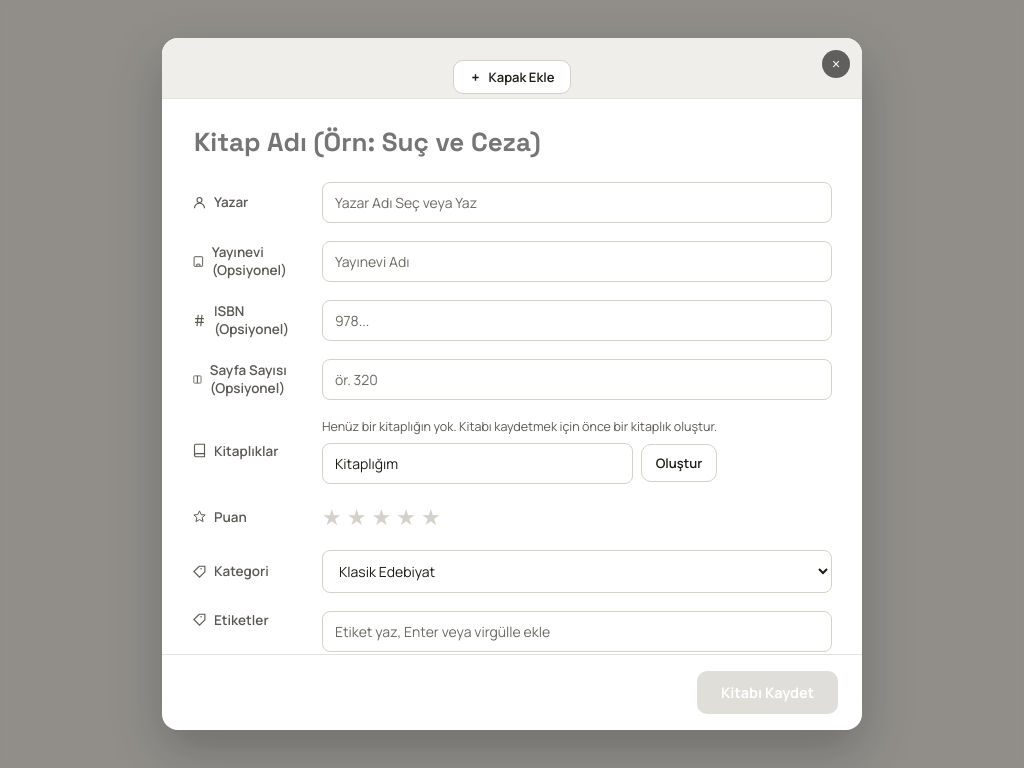
Scenario: BookModal without any library › shows a failed creation inside the dialog, not in a browser alert, keeping the input
The width and height of the screenshot is (1024, 768).
Type "Dune" into the field labelled "Kitap Adı (Örn: Suç ve Ceza)".
click(512, 142); type("Dune")  # box [192,124,832,160]
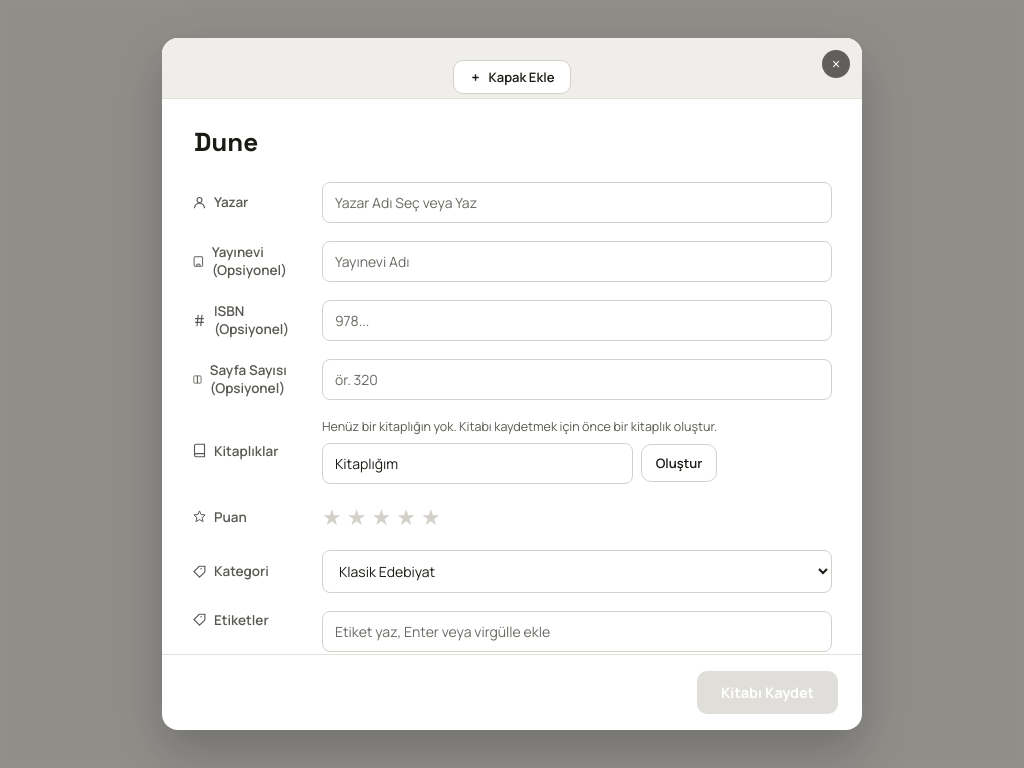
Type "Herbert" into the field with placeholder "Yazar Adı Seç veya Yaz".
click(577, 202); type("Herbert")  # box [322,182,832,223]
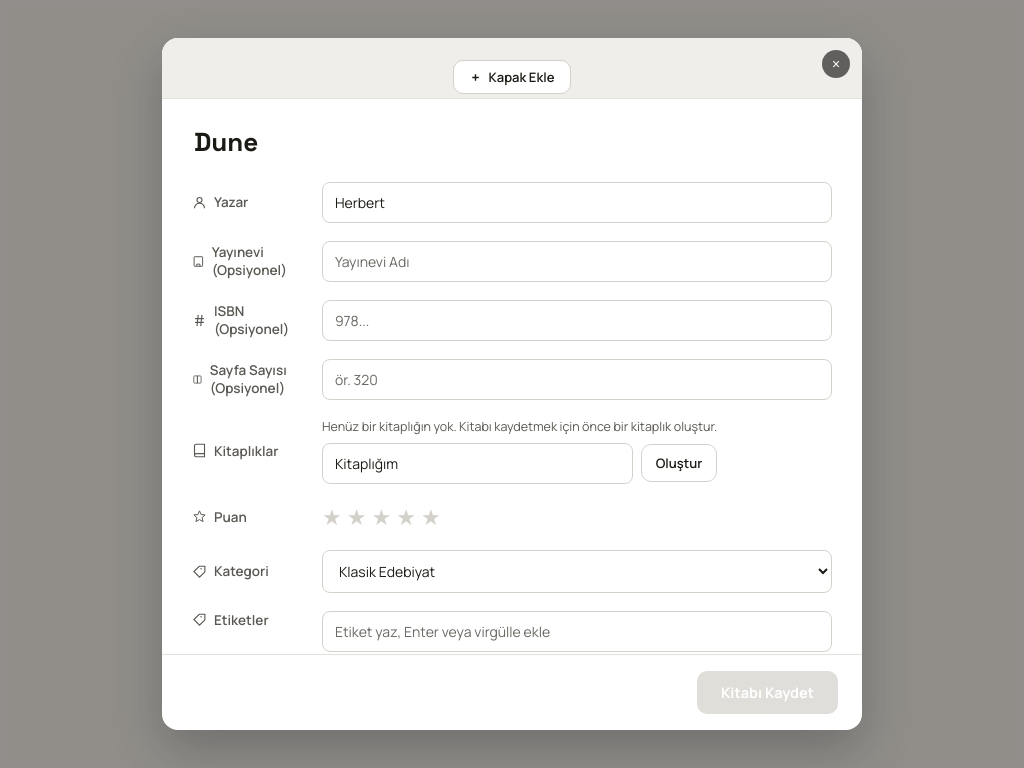
Click the button "Oluştur".
click(679, 463)  # box [641,444,717,482]
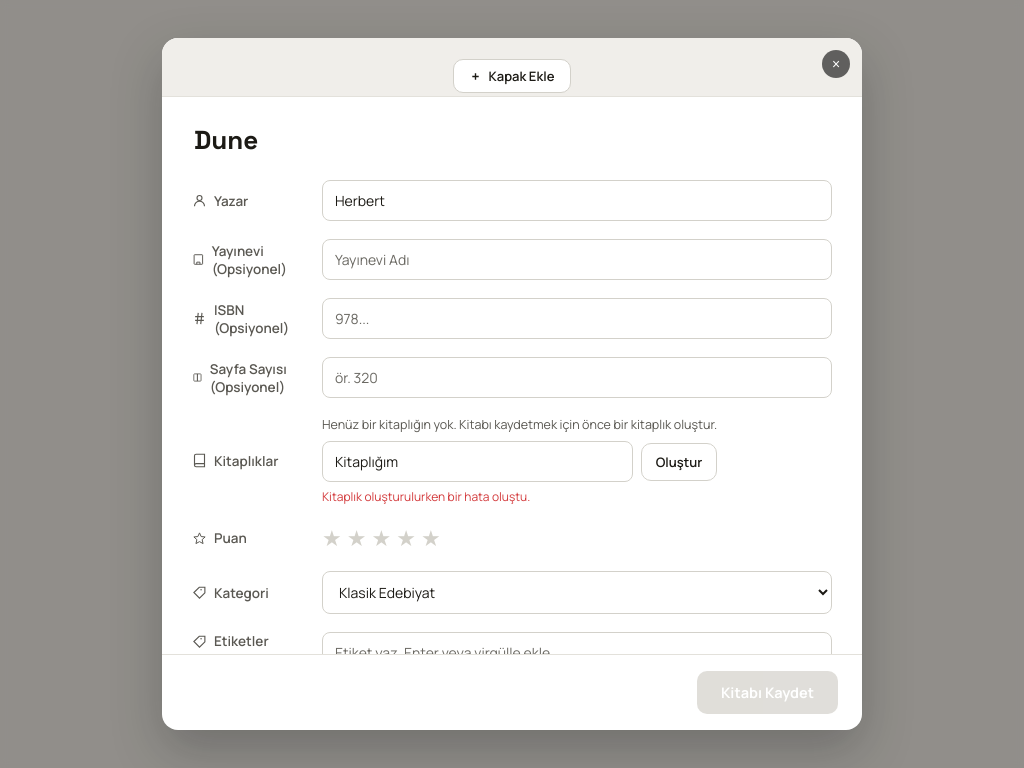
Expected: the field named "Yeni kitaplığın adı" holds "Kitaplığım", [322,441,633,482]
Result: the message reads "Kitaplık oluşturulurken bir hata oluştu." at [322,488,530,505]
